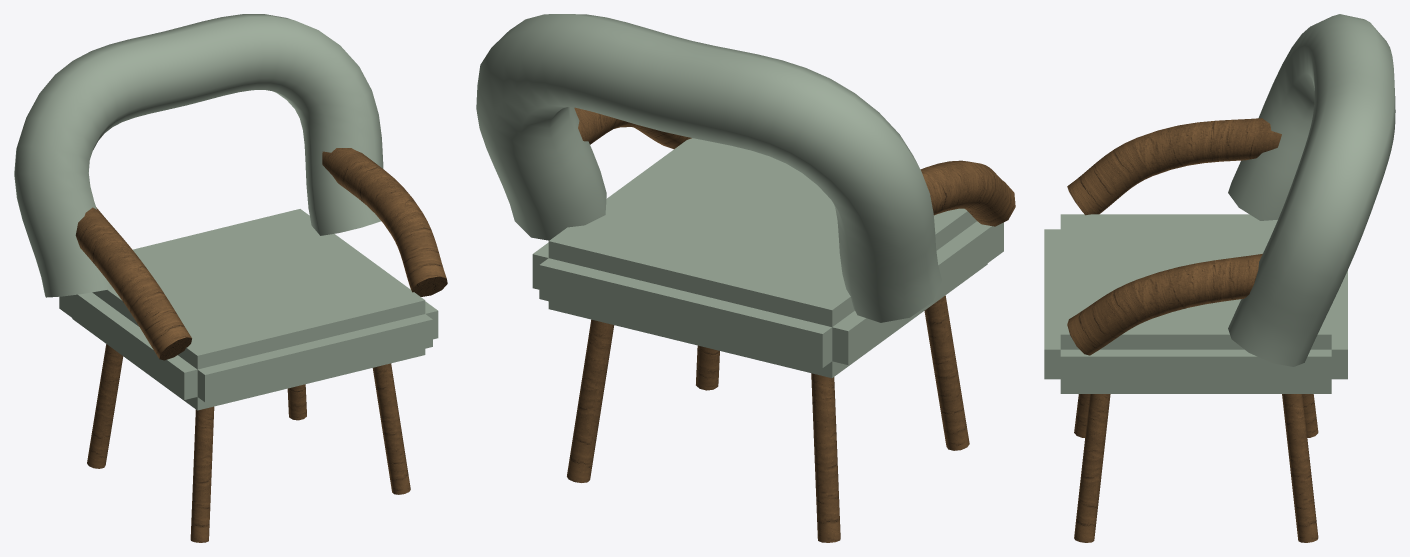
Rendered from fixture_v25_reading_chair.glb.
3 renders of one model, left to right at view 1: azimuth 30°, elevation 25°; view 2: azimuth 150°, elevation 25°; view 3: azimuth 270°, elevation 25°, orthographic. The views are drawn at different scales.
Parts seen in each view (by area): view 1: fixture_v25_reading_chair_V25_woven_twill, fixture_v25_reading_chair_CC0_Oak_veneer; view 2: fixture_v25_reading_chair_V25_woven_twill, fixture_v25_reading_chair_CC0_Oak_veneer; view 3: fixture_v25_reading_chair_V25_woven_twill, fixture_v25_reading_chair_CC0_Oak_veneer.
Part boxes in pixels (x1,y1,x2,y2): fixture_v25_reading_chair_V25_woven_twill: [14, 14, 438, 410]; fixture_v25_reading_chair_CC0_Oak_veneer: [75, 148, 447, 542]; fixture_v25_reading_chair_V25_woven_twill: [476, 14, 1003, 377]; fixture_v25_reading_chair_CC0_Oak_veneer: [567, 107, 1015, 542]; fixture_v25_reading_chair_V25_woven_twill: [1044, 14, 1395, 393]; fixture_v25_reading_chair_CC0_Oak_veneer: [1067, 118, 1318, 542].
Size of the model in its own units: 0.9475 by 1.01 by 0.7516.
2 materials, 1 textured.
